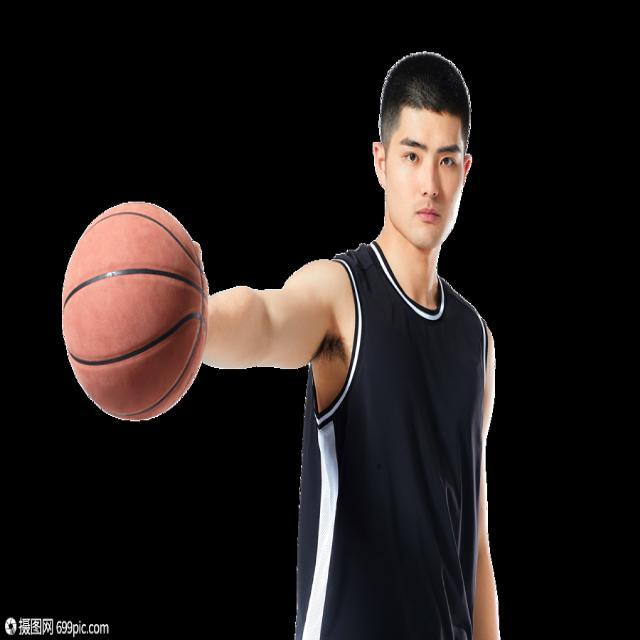rim: (62, 202, 212, 432)
